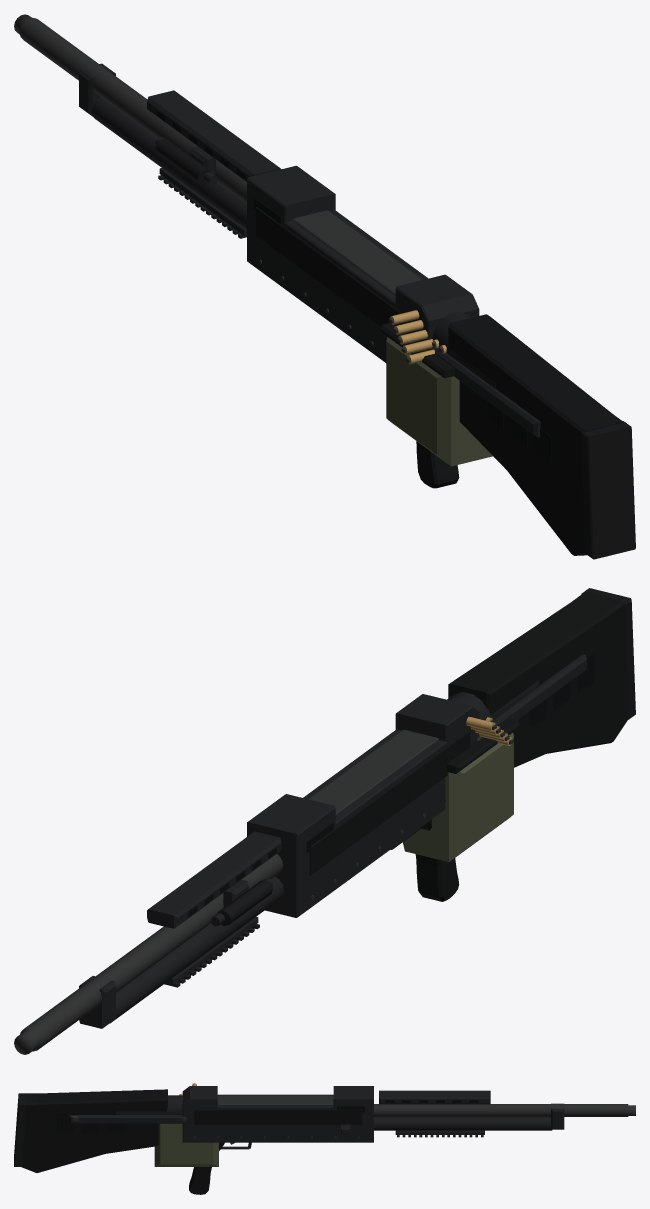
File: weapon-28-BYKkufqw.glb
3 views of the same model, one above another, from view 1: azimuth 30°, elevation 25°; view 2: azimuth 150°, elevation 25°; view 3: azimuth 270°, elevation 25° (orthographic). The views are drawn at different scales.
Visible parts, largest first — view 1: salient_weapon_body, salient_weapon_magazine, salient_weapon_cover; view 2: salient_weapon_body, salient_weapon_magazine, salient_weapon_cover; view 3: salient_weapon_body, salient_weapon_magazine, salient_weapon_cover.
Part boxes in pixels (<box>): salient_weapon_body: <box>14,14,635,559</box>; salient_weapon_magazine: <box>380,310,492,466</box>; salient_weapon_cover: <box>429,346,540,437</box>; salient_weapon_body: <box>14,588,635,1054</box>; salient_weapon_magazine: <box>403,717,519,861</box>; salient_weapon_cover: <box>476,654,586,740</box>; salient_weapon_body: <box>14,1086,635,1194</box>; salient_weapon_magazine: <box>154,1083,218,1166</box>; salient_weapon_cover: <box>69,1115,186,1123</box>.
Bounding box in the file's own units: 0.105 × 0.1977 × 1.11.
